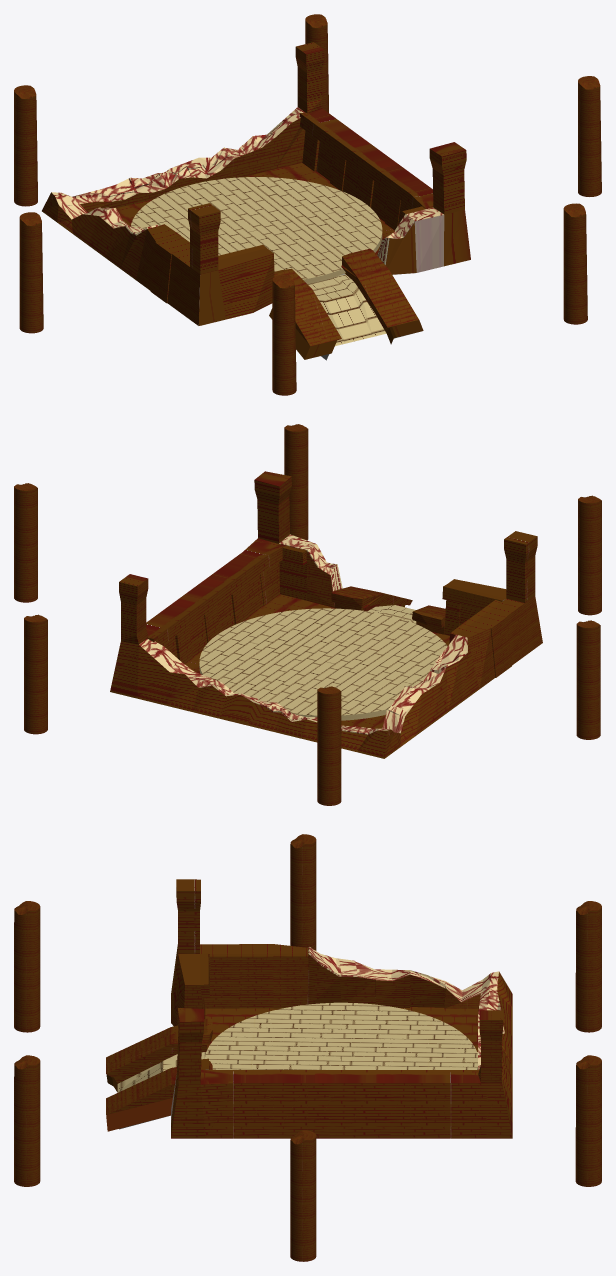
Rendered from Mesopotamia final.fbx.
3 renders of one model, top to bottom at view 1: azimuth 30°, elevation 25°; view 2: azimuth 150°, elevation 25°; view 3: azimuth 270°, elevation 25°, orthographic. The views are drawn at different scales.
Visible parts, largest first — view 1: pPlane2, pPlane1, pCylinder6, pCylinder9, pCylinder7, pCylinder4, pCylinder8, pCylinder5; view 2: pPlane2, pPlane1, pCylinder4, pCylinder9, pCylinder8, pCylinder5, pCylinder7, pCylinder6; view 3: pPlane2, pPlane1, pCylinder7, pCylinder6, pCylinder8, pCylinder4, pCylinder5, pCylinder9.
Part boxes in pixels (left/top/right/bottom): pPlane2: left=42, top=42, right=470, bottom=360; pPlane1: left=130, top=177, right=382, bottom=284; pCylinder6: left=563, top=203, right=587, bottom=324; pCylinder9: left=19, top=212, right=43, bottom=333; pCylinder7: left=272, top=274, right=296, bottom=395; pCylinder4: left=14, top=85, right=37, bottom=206; pCylinder8: left=578, top=76, right=601, bottom=196; pCylinder5: left=305, top=14, right=328, bottom=112; pPlane2: left=110, top=471, right=542, bottom=758; pPlane1: left=199, top=608, right=447, bottom=720; pCylinder4: left=317, top=686, right=341, bottom=805; pCylinder9: left=576, top=620, right=600, bottom=739; pCylinder8: left=14, top=483, right=37, bottom=602; pCylinder5: left=24, top=614, right=47, bottom=734; pCylinder7: left=578, top=495, right=601, bottom=615; pCylinder6: left=284, top=424, right=308, bottom=540; pPlane2: left=106, top=879, right=512, bottom=1138; pPlane1: left=205, top=1002, right=477, bottom=1069; pCylinder7: left=14, top=901, right=40, bottom=1032; pCylinder6: left=14, top=1055, right=40, bottom=1186; pCylinder8: left=290, top=1130, right=316, bottom=1261; pCylinder4: left=575, top=901, right=601, bottom=1032; pCylinder5: left=575, top=1055, right=601, bottom=1186; pCylinder9: left=290, top=834, right=316, bottom=950.
Size of what is drawn, in the model's own units: 5530 by 1366 by 4473.
